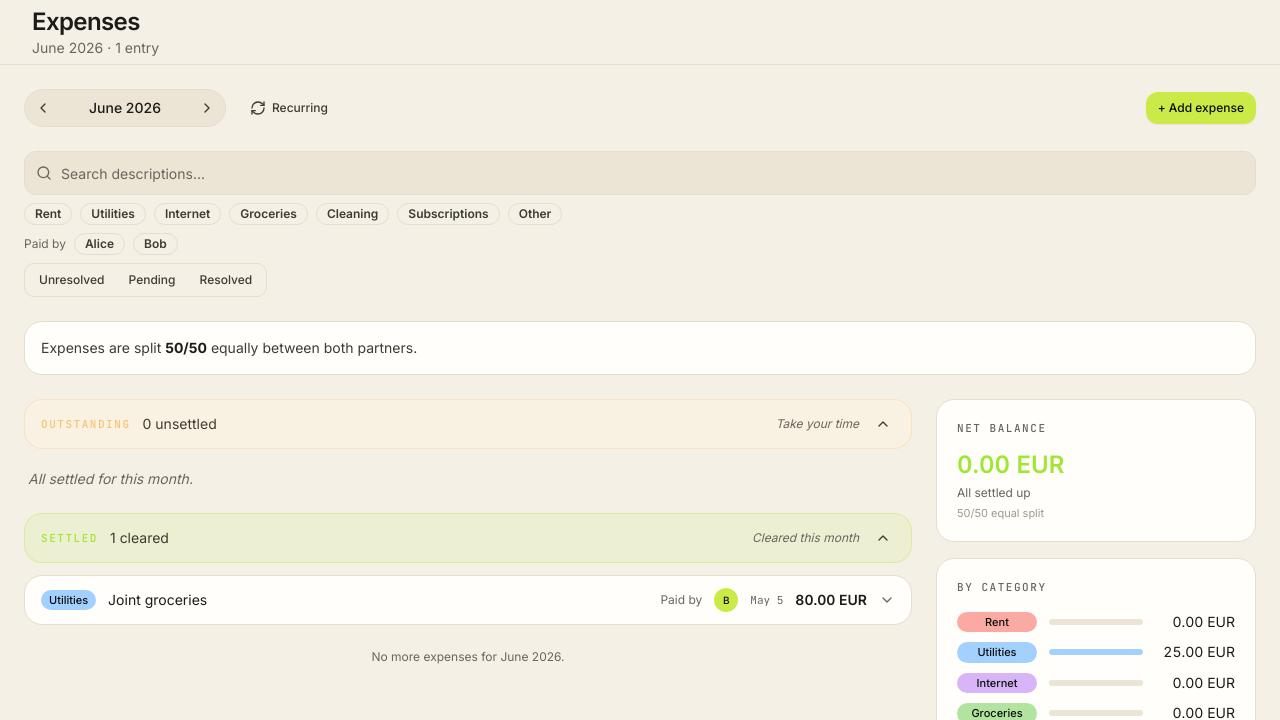
Test: <ExpensesPage /> joint-mode settled-UI cleanup › split mode keeps the SETTLED section and the "Share settled" hint for resolved expenses
Expected: the text "SETTLED" is shown, [41,530,98,546]
Click the text "Joint groceries" at [158, 600], box [108,591,207,608]
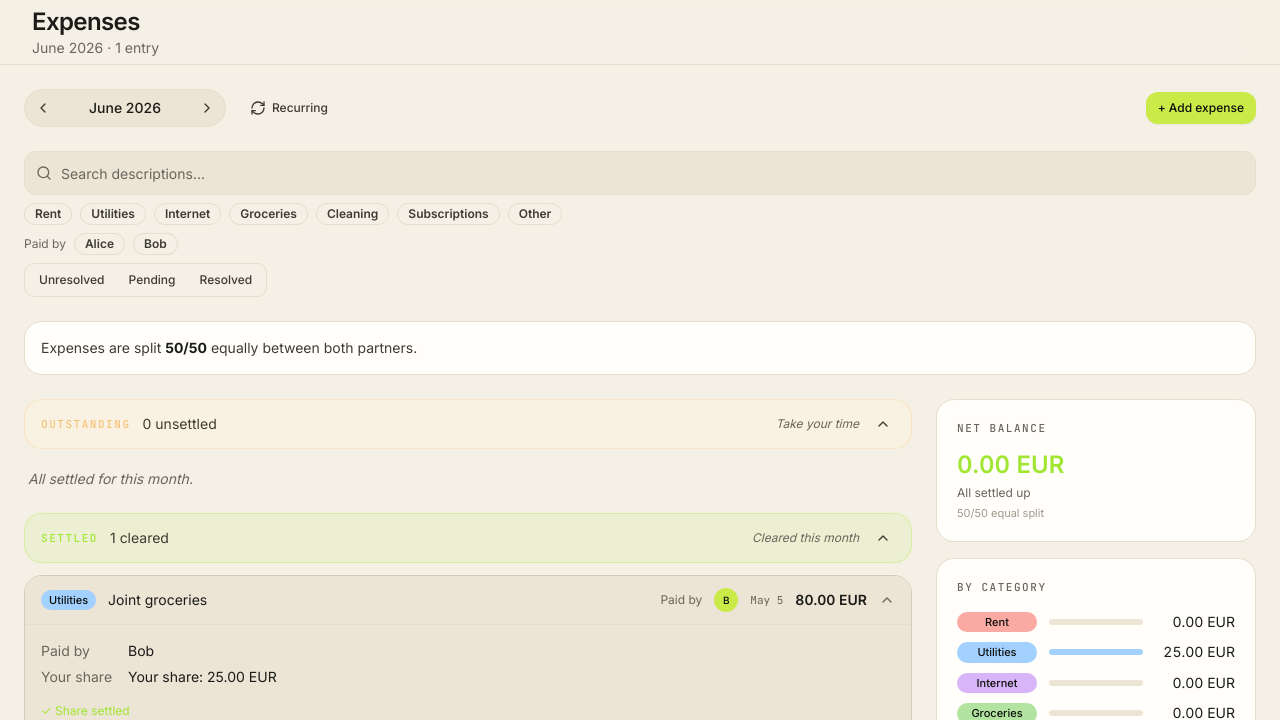
Expected: the text "✓ Share settled" is shown, [41,703,130,718]
